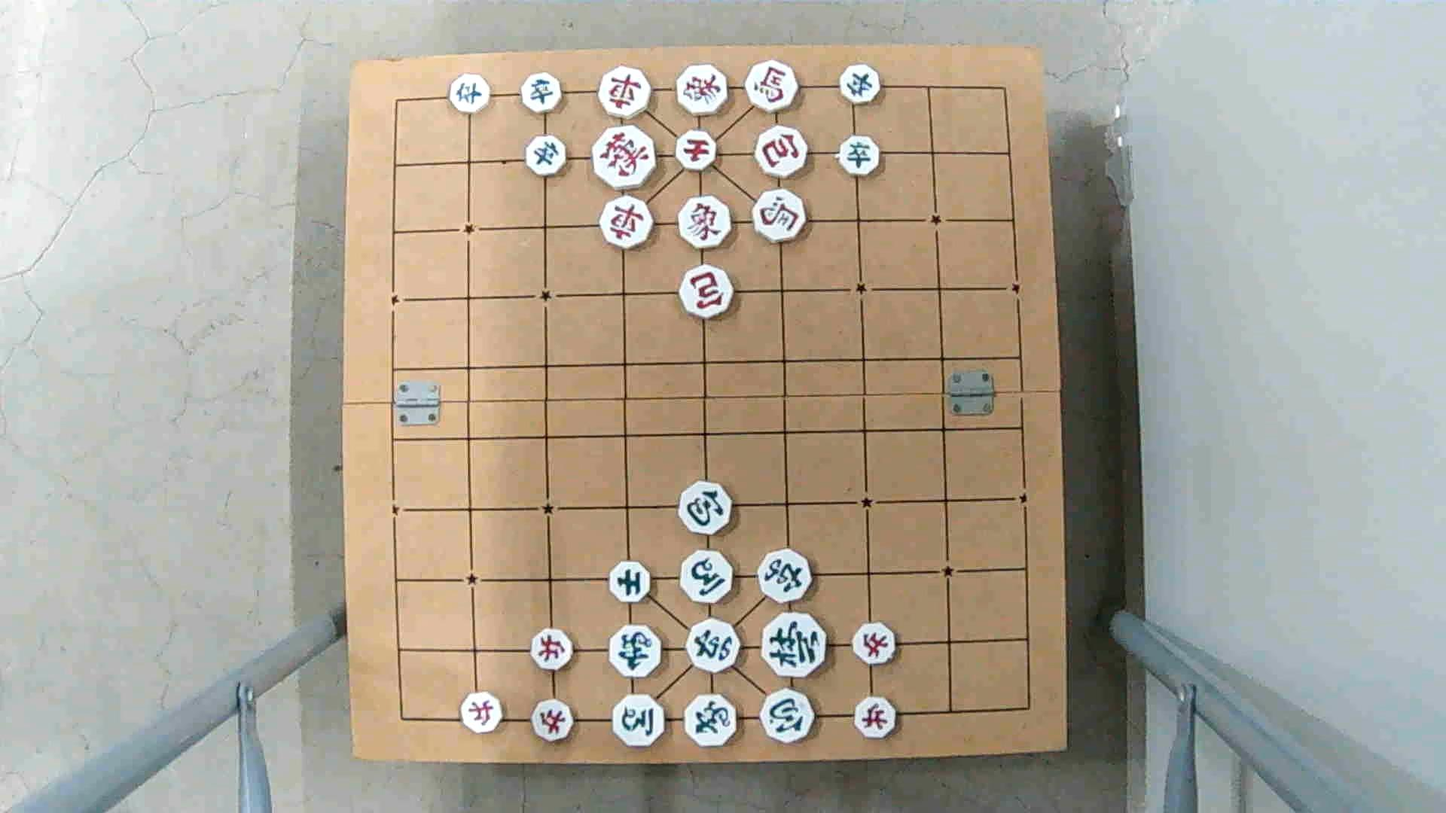cha_green: (758, 553, 813, 603), (684, 621, 740, 670)
cha_red: (602, 69, 657, 118), (597, 198, 651, 245)
jol_green: (523, 75, 566, 114), (528, 139, 572, 177), (836, 136, 881, 173), (840, 67, 883, 105), (451, 77, 493, 113)
jol_red: (532, 698, 575, 745), (854, 699, 900, 739), (850, 623, 897, 662), (530, 629, 577, 668), (461, 695, 505, 732)
ma_green: (679, 550, 736, 604), (613, 696, 670, 746)
ma_red: (752, 188, 806, 240), (746, 65, 801, 112)
po_green: (681, 483, 737, 534), (758, 691, 815, 741)
po_red: (679, 266, 735, 316), (757, 127, 811, 177)
sa_green: (610, 563, 654, 604)
sa_red: (676, 132, 718, 169)
sang_green: (685, 693, 738, 751), (611, 626, 663, 678)
sang_red: (677, 195, 736, 248), (677, 67, 732, 115)
wang_green: (761, 615, 826, 675)
wang_red: (590, 128, 658, 187)
